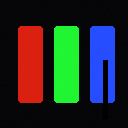4 line_v: (103, 60, 107, 118)
